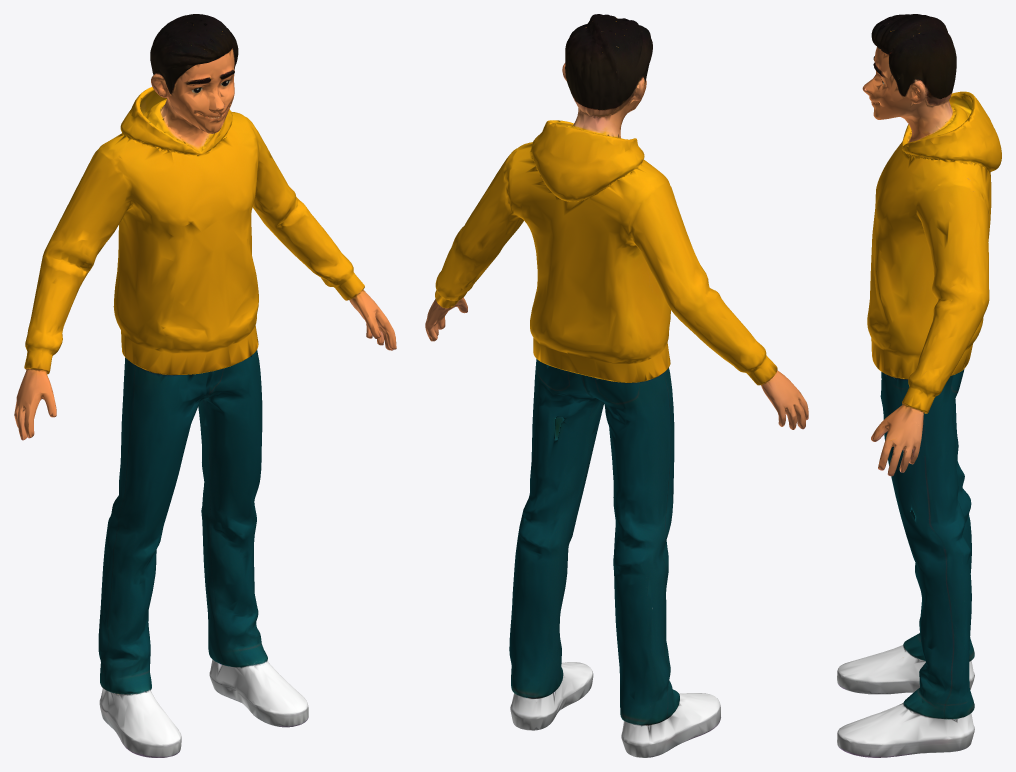
Rendered from Meshy_AI_Yellow_Hoodie_Portrai_0809100414_texture.glb.
3 renders of one model, left to right at view 1: azimuth 30°, elevation 25°; view 2: azimuth 150°, elevation 25°; view 3: azimuth 270°, elevation 25°, orthographic.
Visible parts, largest first — view 1: mesh_node; view 2: mesh_node; view 3: mesh_node.
Part boxes in pixels (bbox=[...]): mesh_node: bbox=[14, 14, 396, 757]; mesh_node: bbox=[425, 14, 808, 757]; mesh_node: bbox=[837, 14, 1001, 757].
Size of the model in its own units: 1.06 by 1.9 by 0.405.
Materials: 1 (1 with a texture image).
